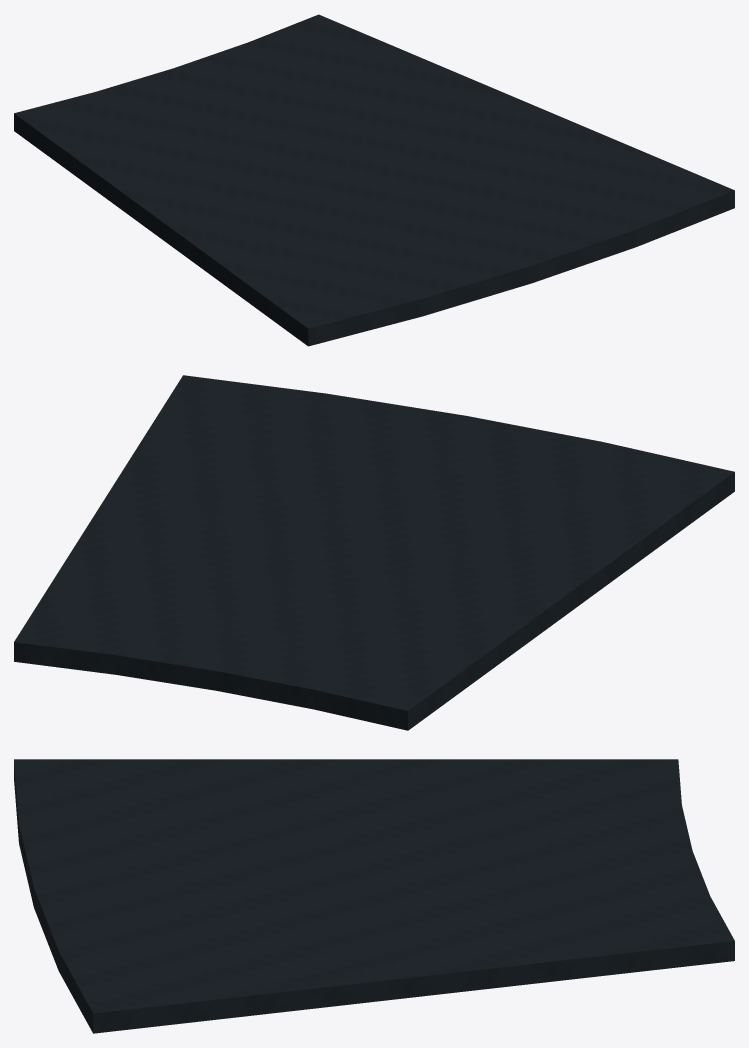
Rendered from Transit_Road_2L_Curve15_R18_Surface.glb.
3 views of the same model, one above another, from view 1: azimuth 30°, elevation 25°; view 2: azimuth 150°, elevation 25°; view 3: azimuth 270°, elevation 25° (orthographic). The views are drawn at different scales.
Parts seen in each view (by area): view 1: Transit_Road_2L_Curve15_R18_Surface; view 2: Transit_Road_2L_Curve15_R18_Surface; view 3: Transit_Road_2L_Curve15_R18_Surface.
Boxes of the visible parts, x1,y1,x2,y2 form: Transit_Road_2L_Curve15_R18_Surface: (14,14,734,346); Transit_Road_2L_Curve15_R18_Surface: (14,375,734,730); Transit_Road_2L_Curve15_R18_Surface: (14,759,734,1033).
Size of the model in its own units: 5.44 by 0.2 by 6.51.
Materials: 1 (1 with a texture image).
